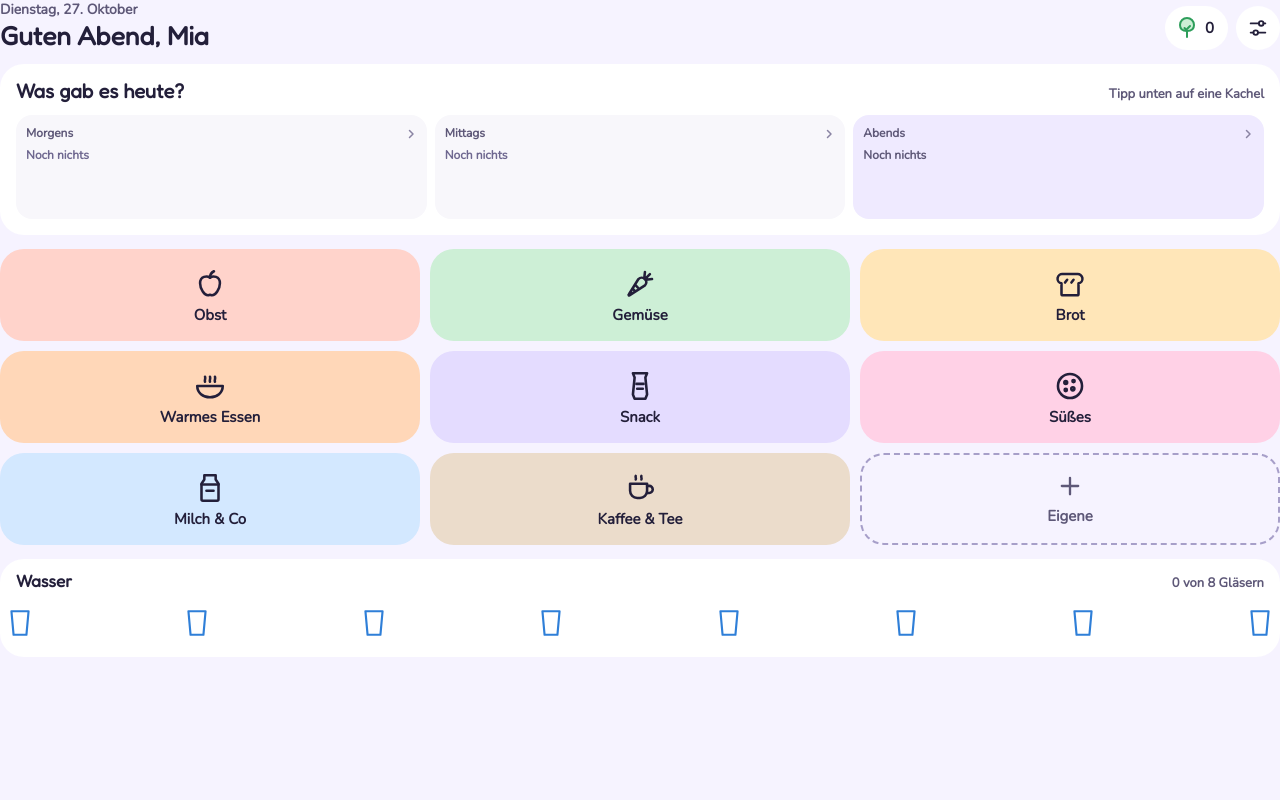
it: TodayView › deleting from a part sheet can be undone from the toast
Click the button "Brot" at (1070, 295), box 860,249 -> 1279,341
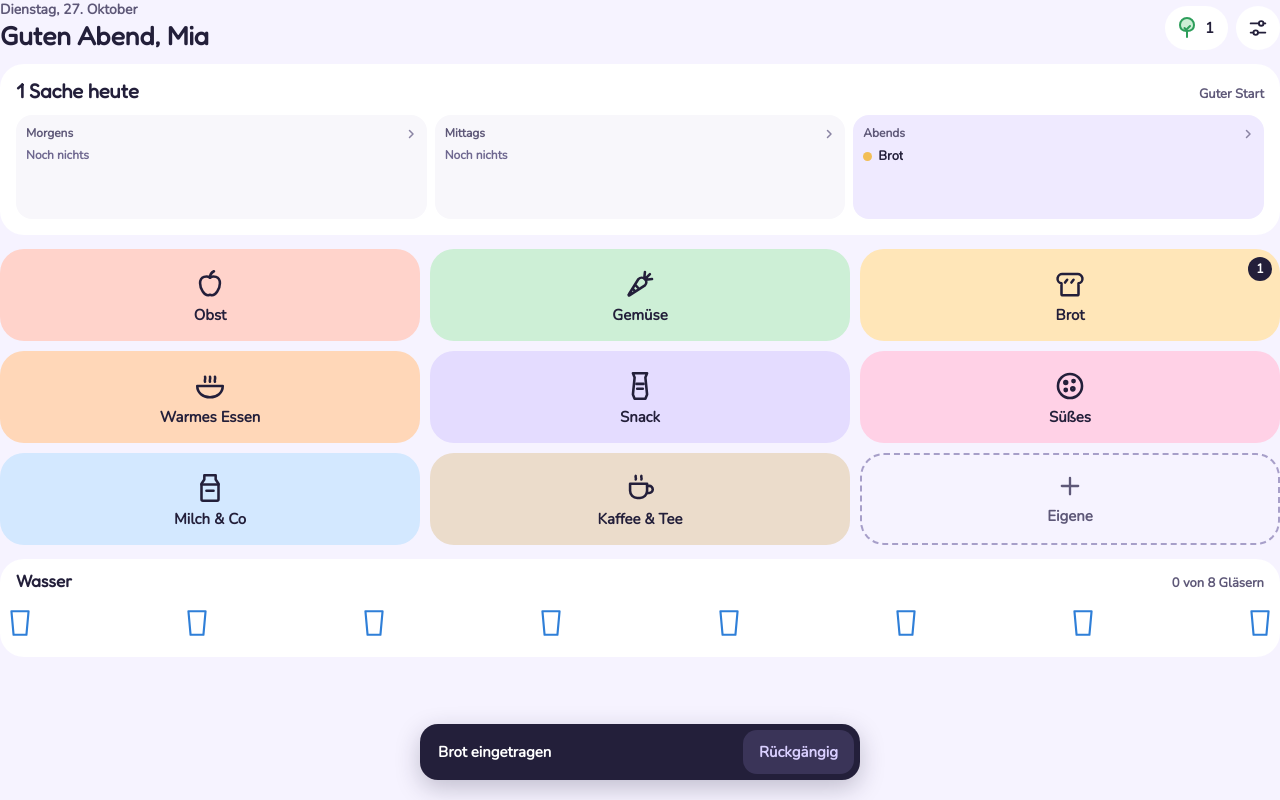
Click the button "Abends Brot" at (884, 133), box 853,115 -> 1264,219
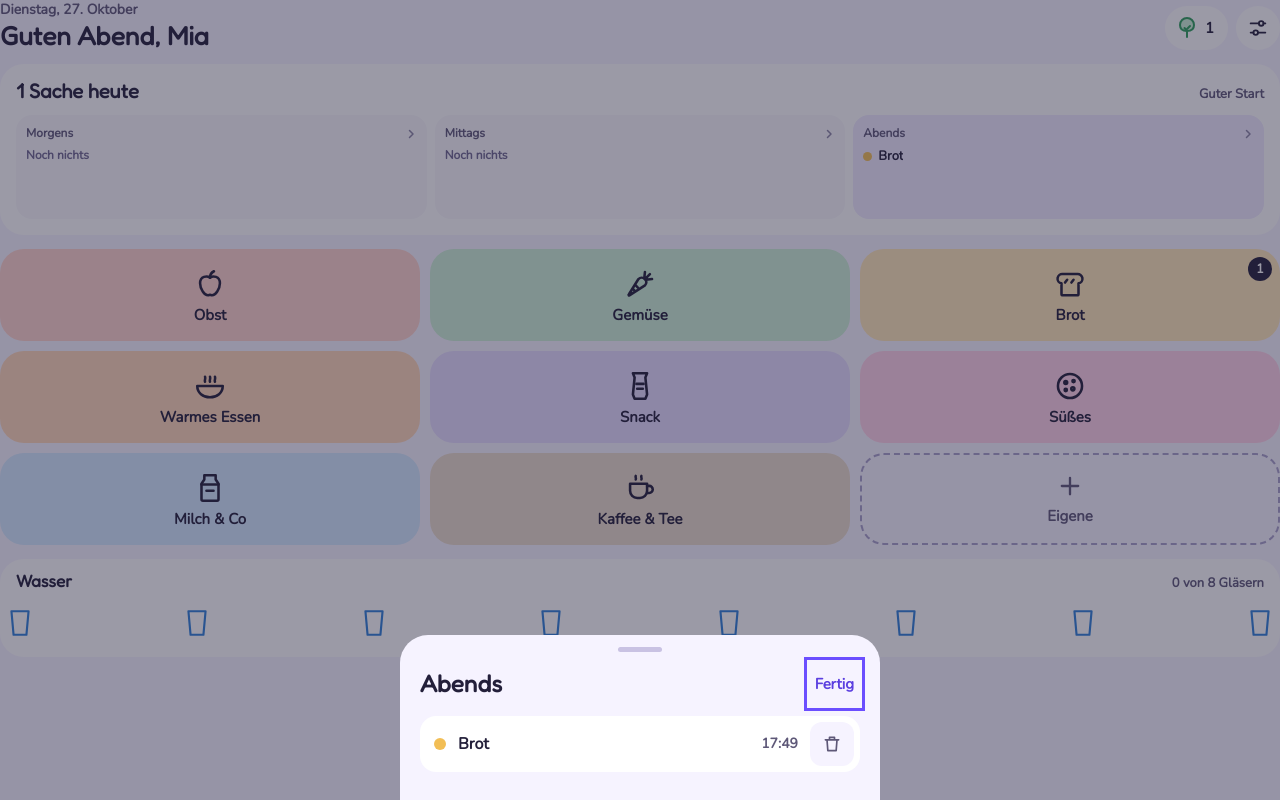
Now the button with class "entry__delete" is shown
Click the button with class "entry__delete" at (832, 744), box 810,722 -> 854,766
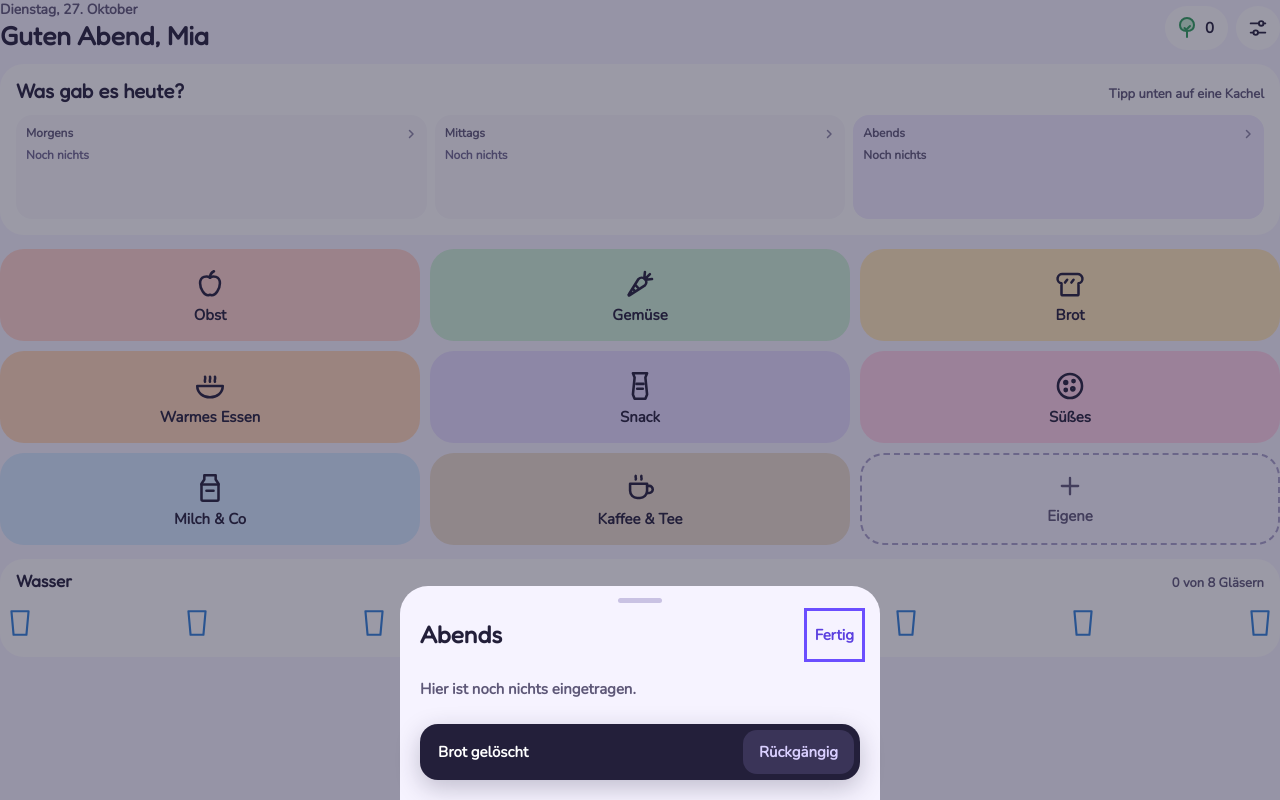
Now the text with class "toast__text" reads "Brot gelöscht", box 438,742 -> 528,762
Now the button with class "toast__action" is shown
Click the button with class "toast__action" at (798, 752), box 743,730 -> 854,774
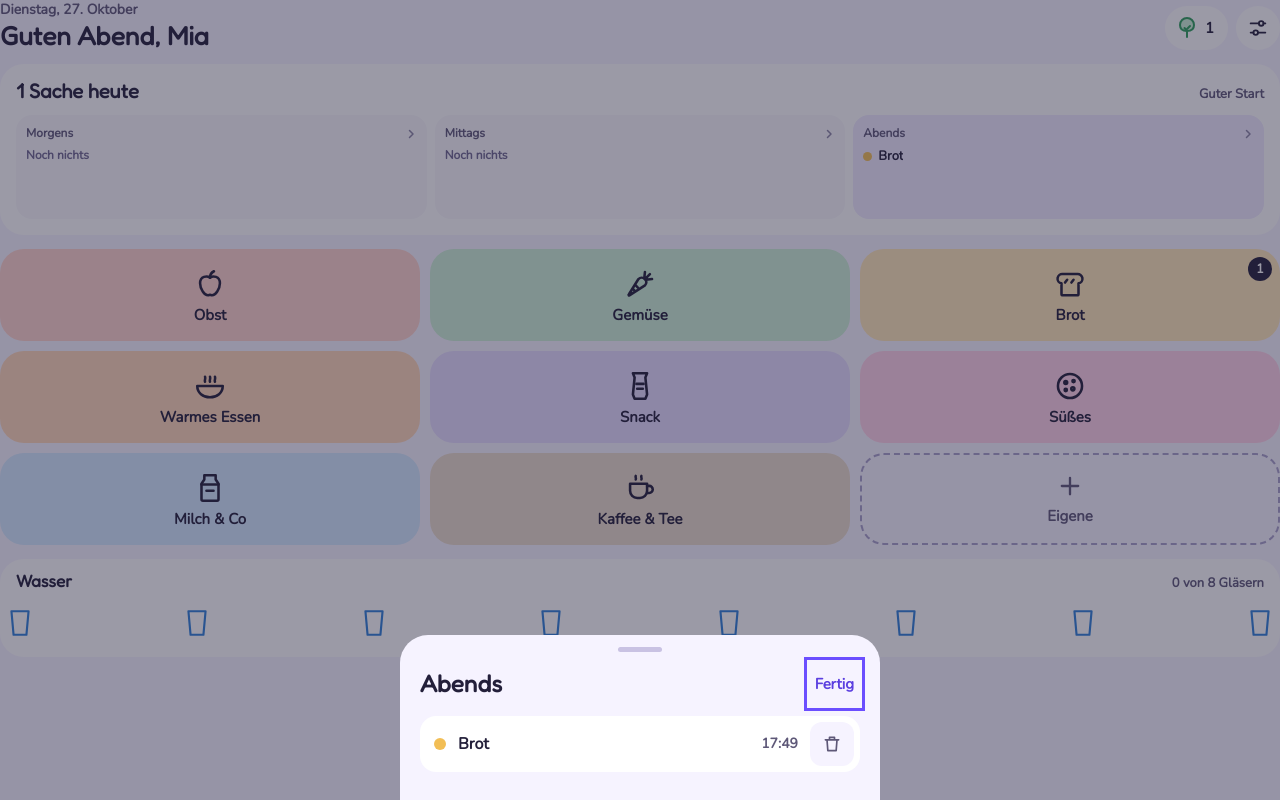
Now the number of list items with class "entry" is 1, box 420,716 -> 860,772
